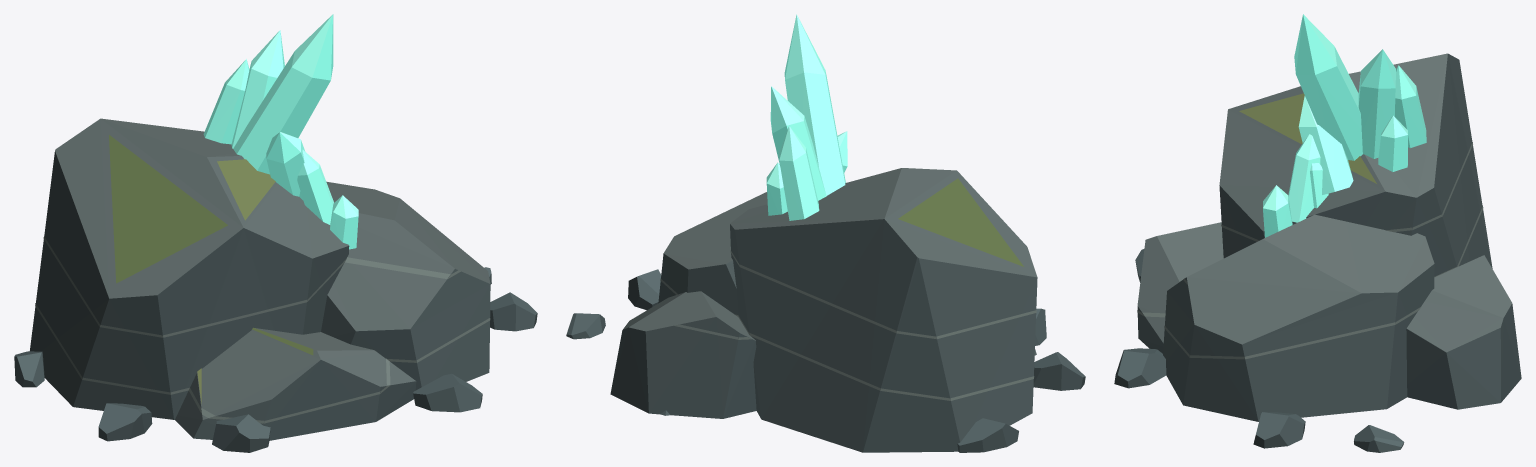
The model's file is aether-ore.glb.
The picture shows the model from 3 angles, left to right: view 1: azimuth 30°, elevation 25°; view 2: azimuth 150°, elevation 25°; view 3: azimuth 270°, elevation 25°; orthographic projection. The views are drawn at different scales.
Visible parts, largest first — view 1: Fractured slate, Exposed aether vein, Sheltered lichen; view 2: Fractured slate, Exposed aether vein, Sheltered lichen; view 3: Fractured slate, Exposed aether vein, Sheltered lichen.
Boxes of the visible parts, x1,y1,x2,y2 form: Fractured slate: [14, 118, 537, 452]; Exposed aether vein: [203, 14, 358, 249]; Sheltered lichen: [109, 135, 313, 403]; Fractured slate: [566, 168, 1085, 452]; Exposed aether vein: [766, 14, 847, 220]; Sheltered lichen: [898, 178, 1023, 266]; Fractured slate: [1114, 53, 1521, 452]; Exposed aether vein: [1263, 14, 1426, 237]; Sheltered lichen: [1239, 93, 1376, 183].
Bounding box in the file's own units: 2.24 × 1.57 × 1.69.
